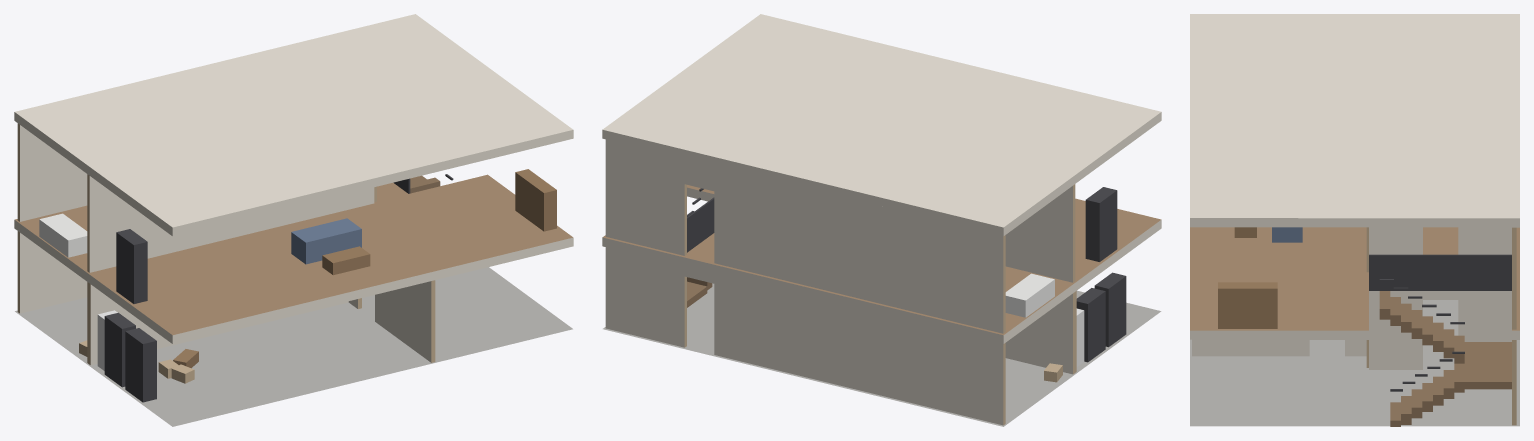
The model's file is interior.glb.
3 renders of one model, left to right at view 1: azimuth 30°, elevation 25°; view 2: azimuth 150°, elevation 25°; view 3: azimuth 270°, elevation 25°, orthographic. The views are drawn at different scales.
Visible parts, largest first — view 1: slabs, partitions, coarse-s1, coarse-s0, stair; view 2: slabs, partitions, coarse-s0, coarse-s1, stair; view 3: slabs, stair, partitions, coarse-s1.
Part boxes in pixels (x1,y1,x2,y2): slabs: [14, 14, 573, 426]; partitions: [17, 123, 435, 365]; coarse-s1: [39, 169, 556, 303]; coarse-s0: [79, 310, 198, 402]; stair: [393, 174, 453, 193]; slabs: [602, 14, 1161, 426]; partitions: [605, 139, 1076, 425]; coarse-s0: [1044, 272, 1126, 382]; coarse-s1: [1005, 187, 1117, 317]; stair: [687, 188, 714, 307]; slabs: [1190, 14, 1519, 426]; stair: [1369, 254, 1511, 426]; partitions: [1192, 227, 1516, 425]; coarse-s1: [1218, 227, 1302, 328].
Size of the model in its own units: 12.27 by 5.85 by 8.38.
